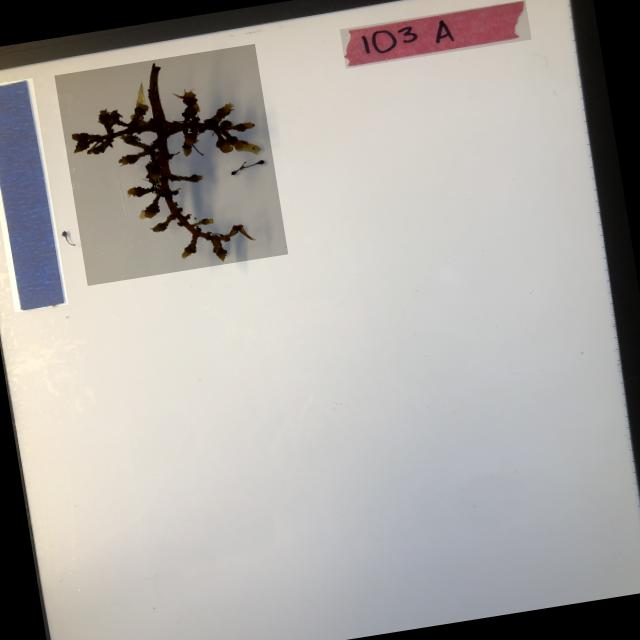index: (339, 0, 532, 69)
measure_label: (0, 78, 68, 313)
rachis_cluster: (54, 44, 288, 286)
